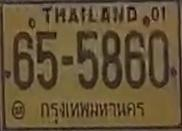0: (148, 29, 170, 87)
5: (76, 30, 98, 88), (36, 30, 57, 89)
6: (124, 29, 145, 88), (12, 31, 33, 89)
8: (101, 30, 121, 88)
BKK: (37, 97, 148, 125)
